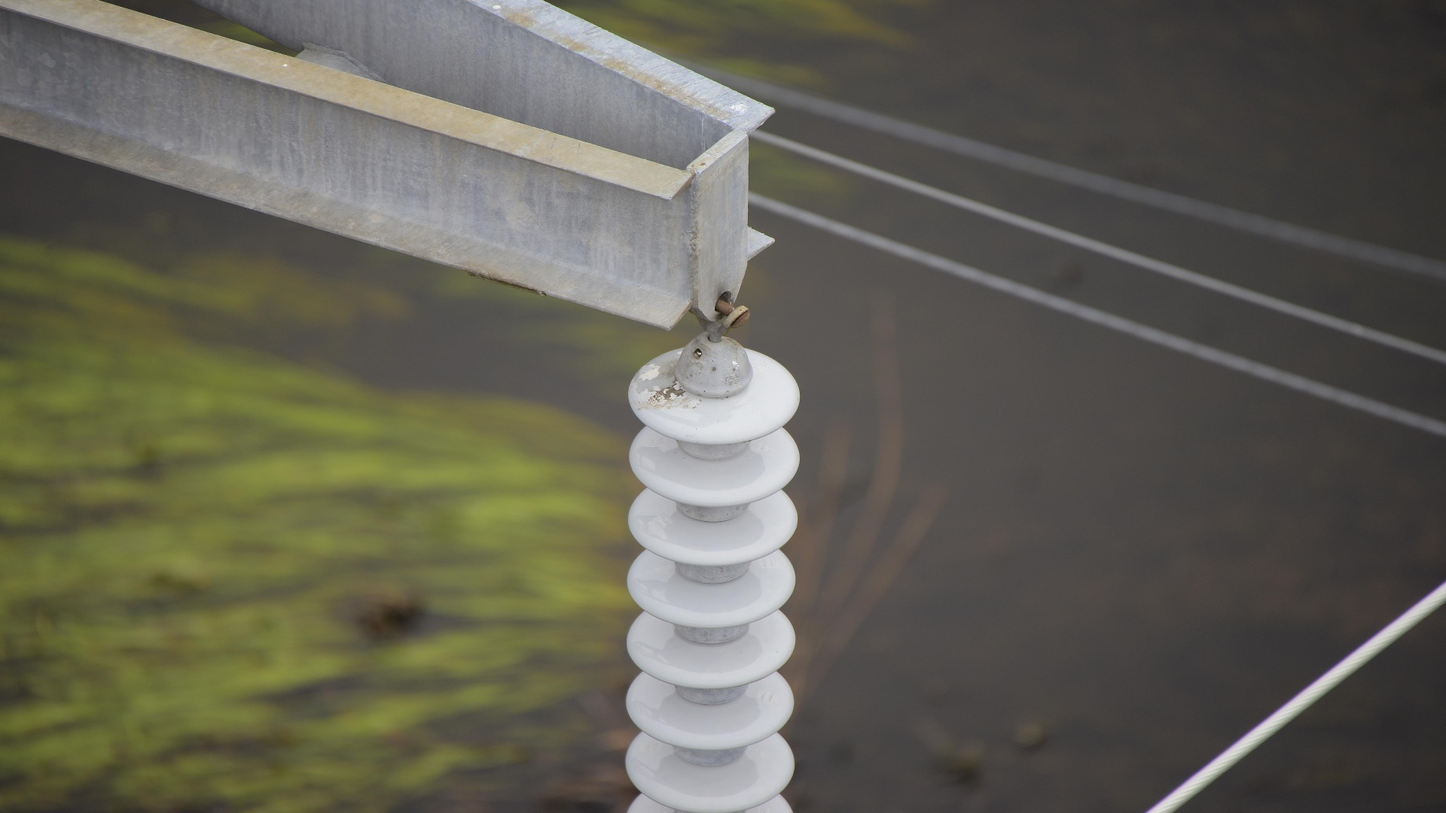insulator: (619, 338, 807, 813)
